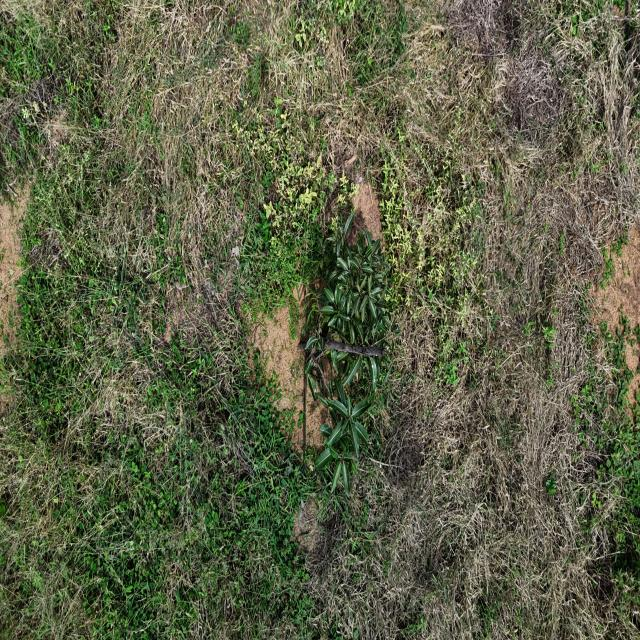mangoTree: (307, 205, 395, 499)
